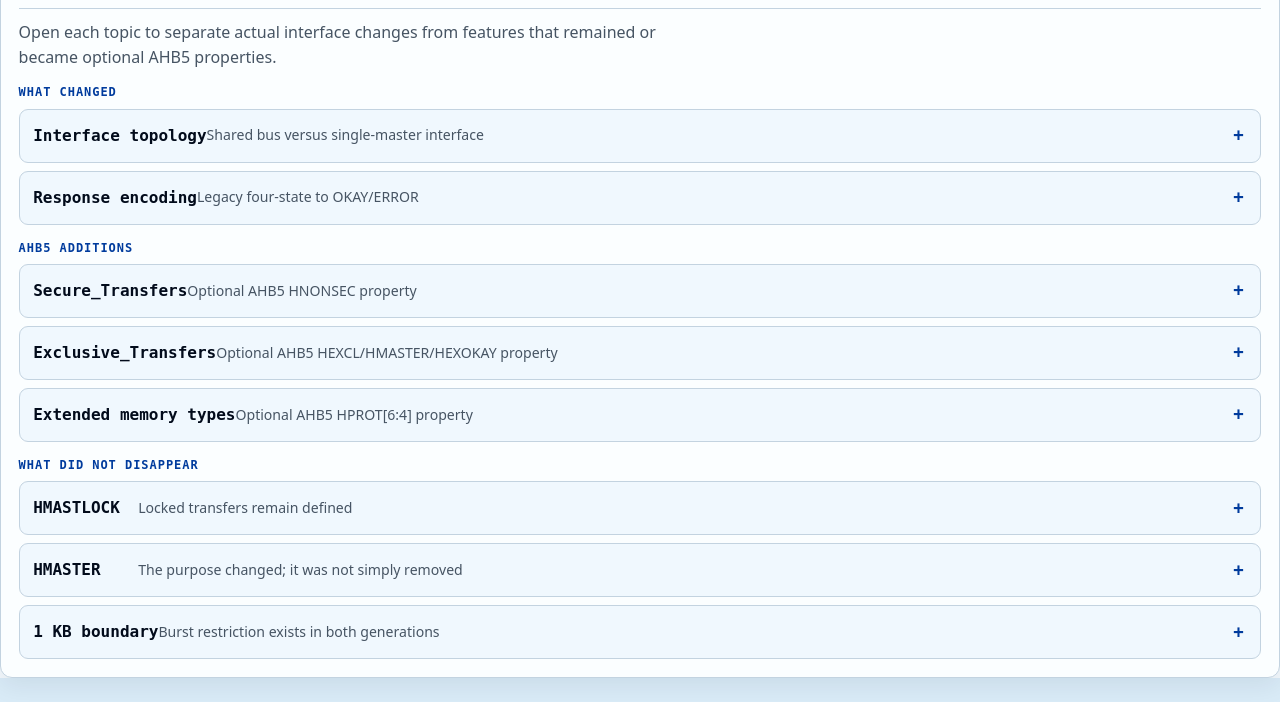
Scenario: production visual rendering › reveals the version-correct 1 KB rule in the evolution explorer
The width and height of the screenshot is (1280, 702).
(page scrolled)
Step 1. Click the button "1 KB boundary Burst restriction exists in both generations +" → (96,632), box [20,606,1260,658]
(page scrolled)
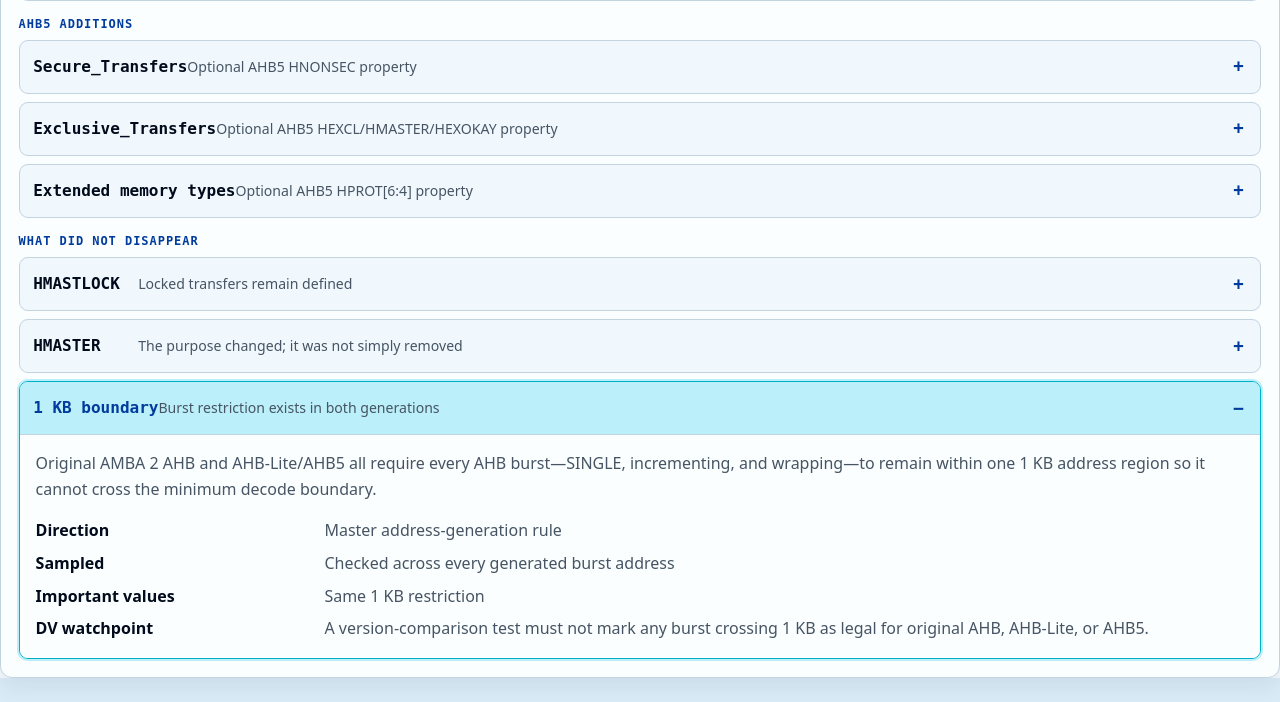
expect the text "Original AMBA 2 AHB and AHB-Lite/AHB5 all require" is shown: met, box [36,452,1205,500]
